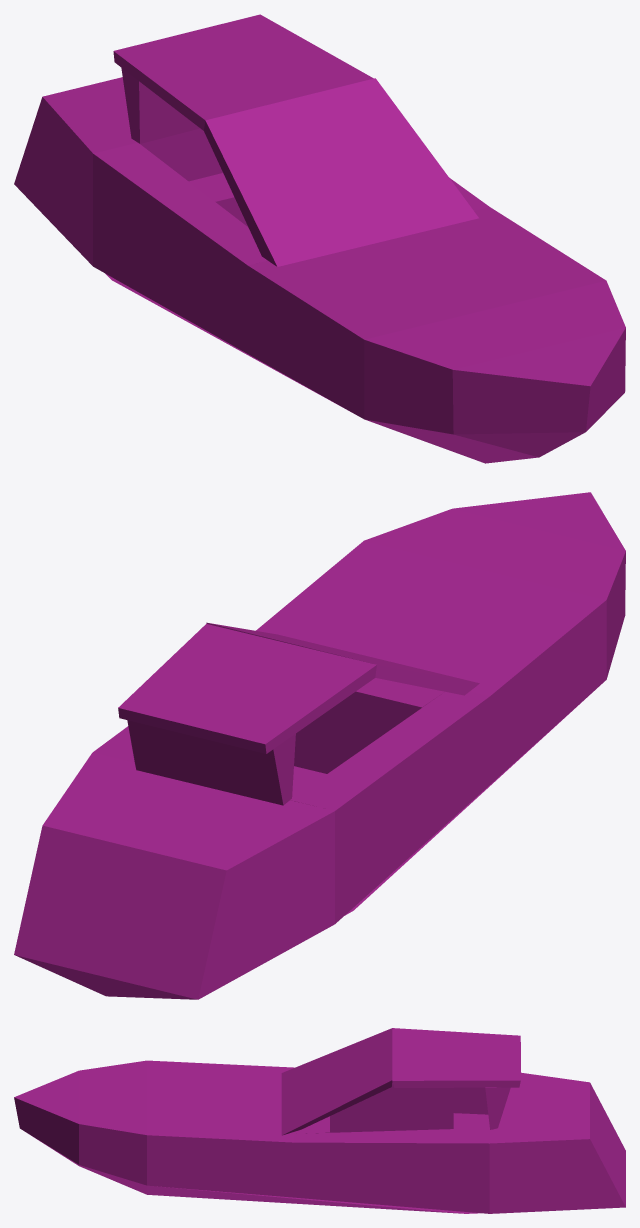
File: SM_Veh_Power_Boat_01_Collision.fbx
3 views of the same model, one above another, from view 1: azimuth 30°, elevation 25°; view 2: azimuth 150°, elevation 25°; view 3: azimuth 270°, elevation 25° (orthographic). The views are drawn at different scales.
Visible parts, largest first — view 1: SM_Veh_Power_Boat_01_Collision; view 2: SM_Veh_Power_Boat_01_Collision; view 3: SM_Veh_Power_Boat_01_Collision.
Boxes of the visible parts, left/top/right/bottom form: SM_Veh_Power_Boat_01_Collision: left=14, top=14, right=625, bottom=463; SM_Veh_Power_Boat_01_Collision: left=14, top=492, right=625, bottom=999; SM_Veh_Power_Boat_01_Collision: left=14, top=1028, right=625, bottom=1213.
Size of the model in its own units: 293 by 261 by 1014.
